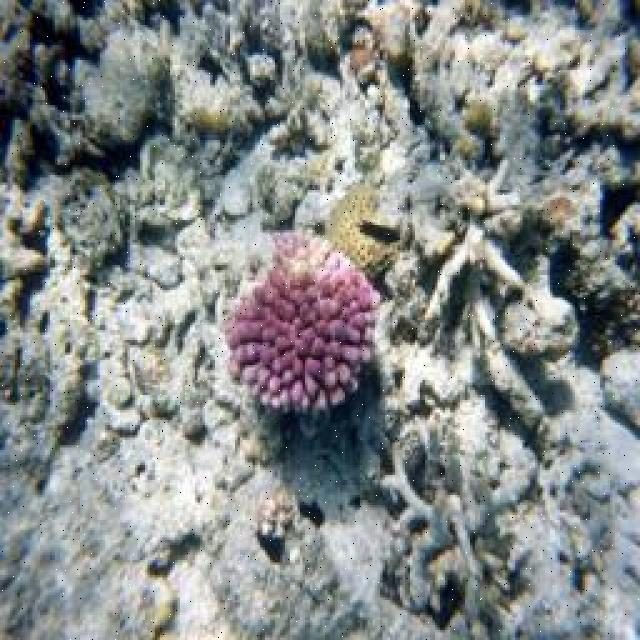reefs: (223, 234, 379, 410), (329, 190, 397, 279)
